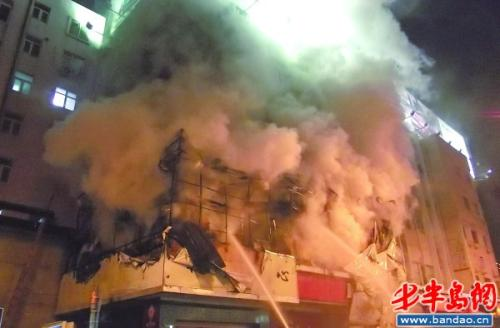smoke: (94, 31, 411, 238)
